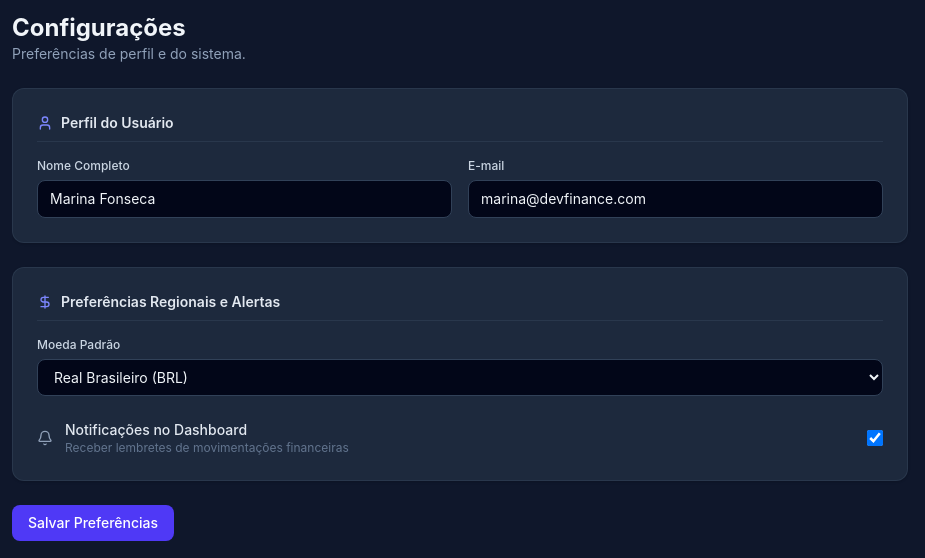
Scenario: Settings (Conformidade com Spec RF05) › deve validar e submeter as configurações com mensagem de sucesso
What coordinates should you click on to do the following:
click the button "Salvar Preferências"
I would click on:
 (93, 523)
Its box is [12,505,174,541].
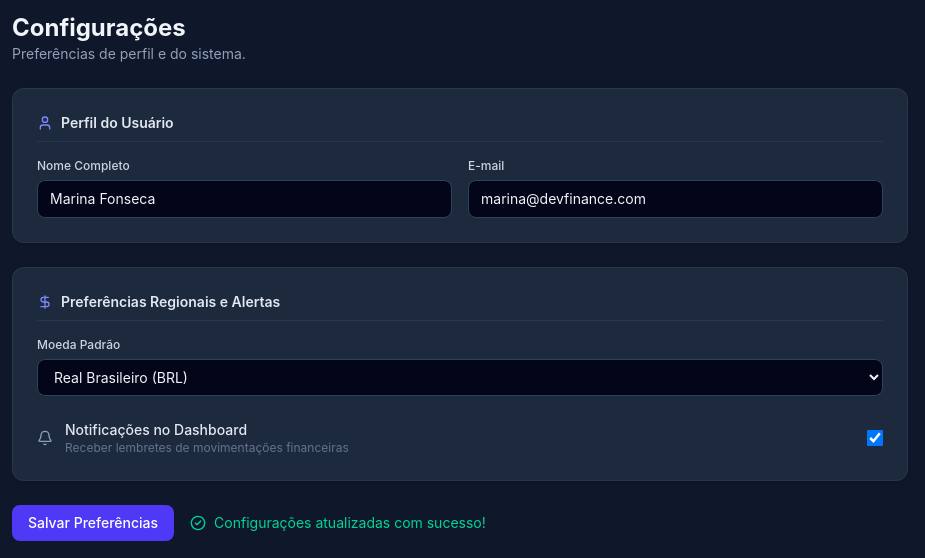
expect the text "Configurações atualizadas com sucesso!" is shown: met, box [214,513,486,533]
